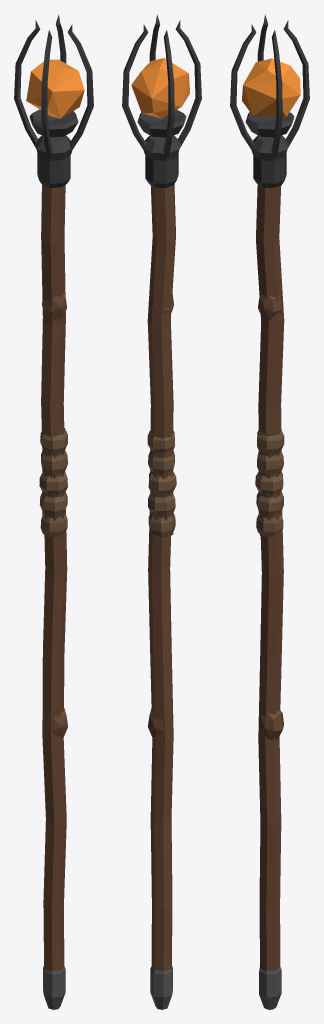
The model's file is staff_fire.glb.
The picture shows the model from 3 angles, left to right: view 1: azimuth 30°, elevation 25°; view 2: azimuth 150°, elevation 25°; view 3: azimuth 330°, elevation 25°; orthographic projection.
Parts seen in each view (by area): view 1: staff_fire; view 2: staff_fire; view 3: staff_fire.
Part boxes in pixels (x1,y1,x2,y2): staff_fire: (14,14,93,1009); staff_fire: (122,14,201,1009); staff_fire: (230,14,309,1009).
Size of the model in its own units: 0.0982 by 1.72 by 0.0956.
